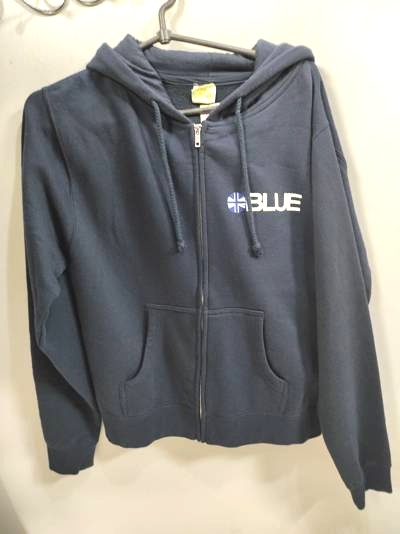Hoodie: (3, 30, 400, 507)
